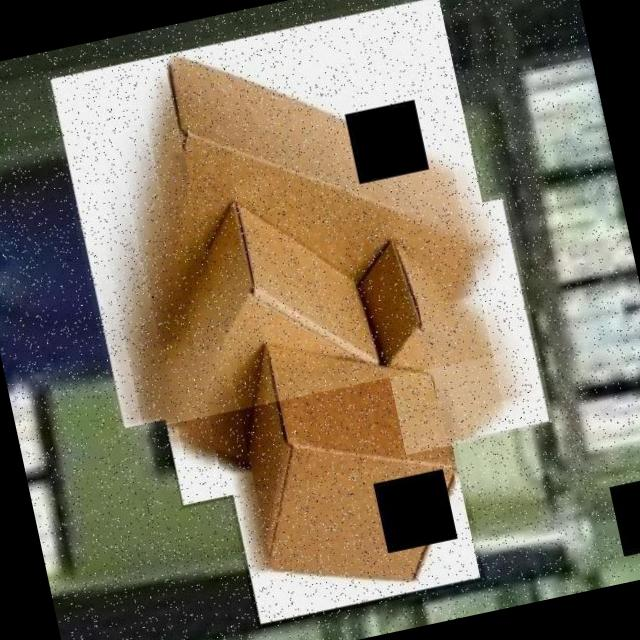box: (43, 0, 521, 434), (120, 170, 407, 508), (199, 308, 486, 629), (345, 193, 554, 457)
